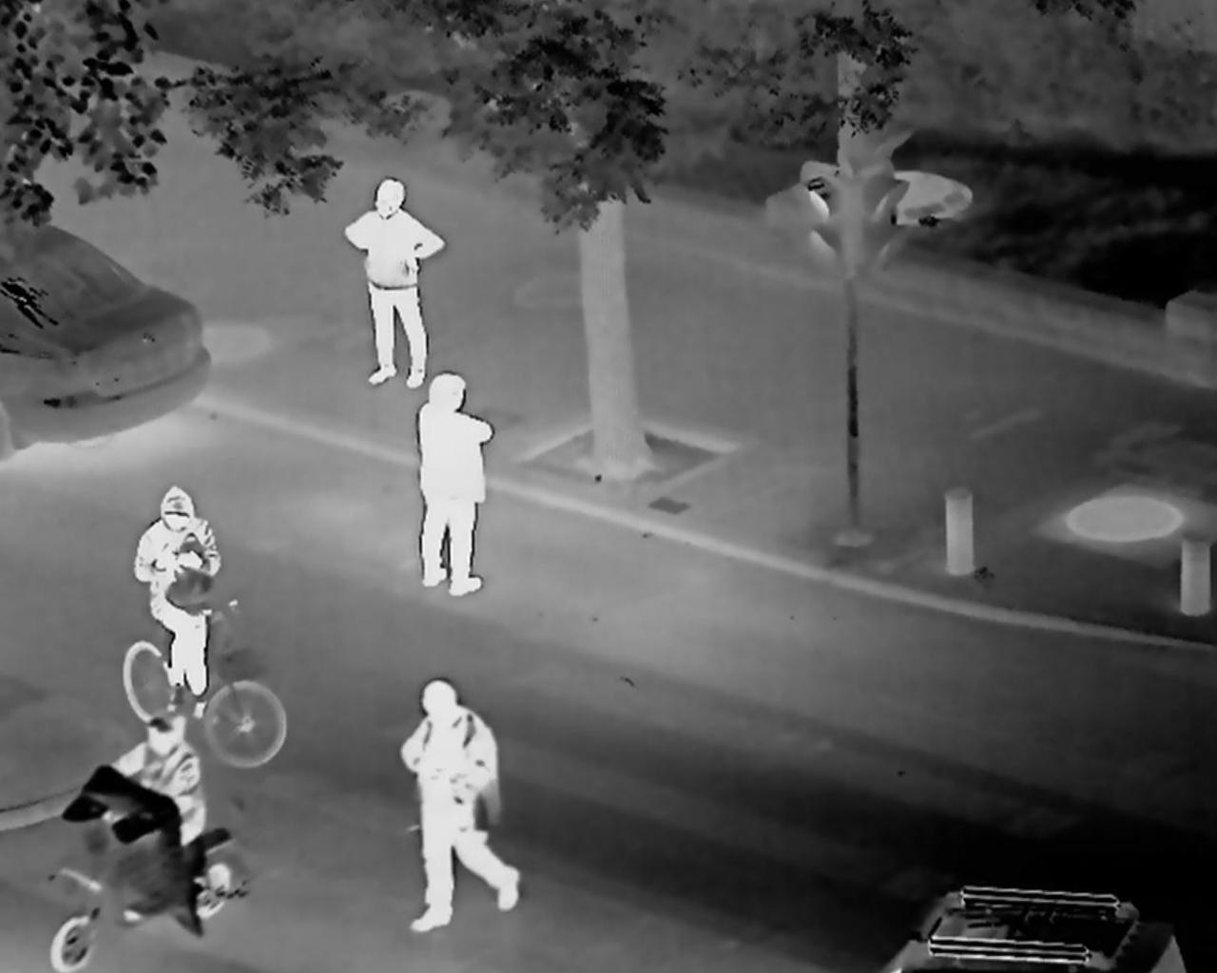person: (396, 665, 510, 931), (335, 177, 432, 389), (126, 480, 207, 681), (120, 714, 230, 852), (424, 381, 493, 594)
